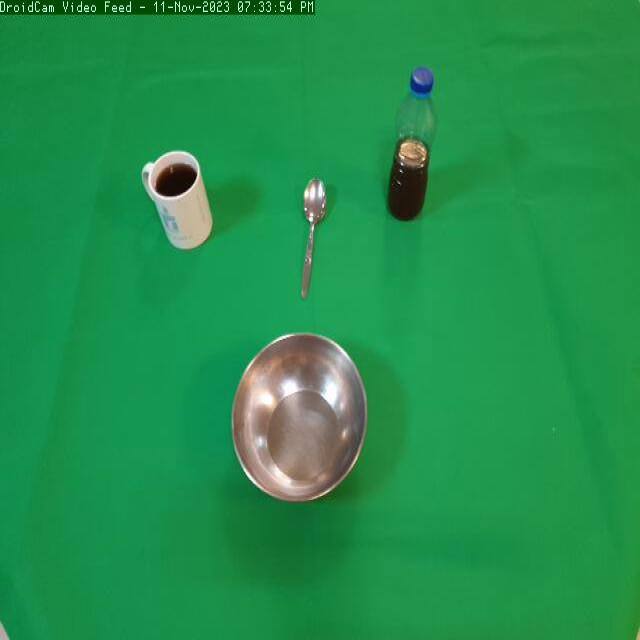bowl: (224, 328, 375, 512)
fullbottle: (384, 62, 446, 236)
fullcup: (141, 142, 222, 263)
spoon: (295, 168, 337, 303)
